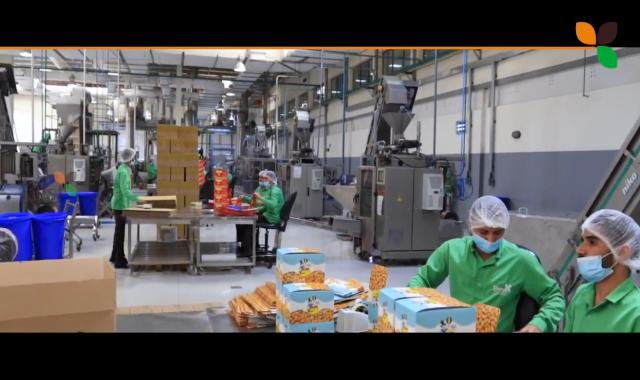hairnet: (582, 209, 639, 282), (470, 195, 506, 247), (262, 168, 278, 186), (118, 146, 134, 163)
